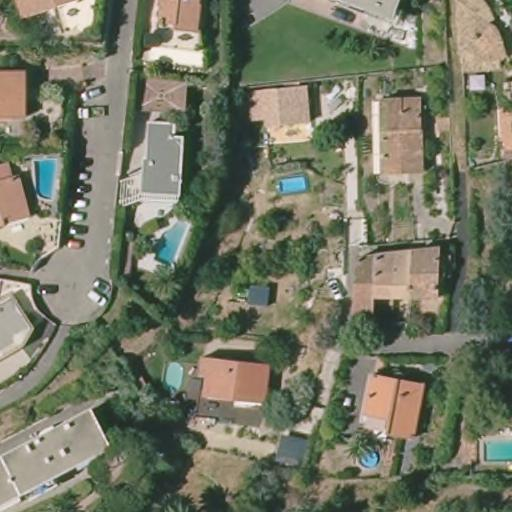pool: (154, 215, 191, 267), (31, 153, 58, 203), (477, 432, 511, 463), (157, 360, 185, 397), (273, 172, 310, 196), (356, 444, 381, 470)
